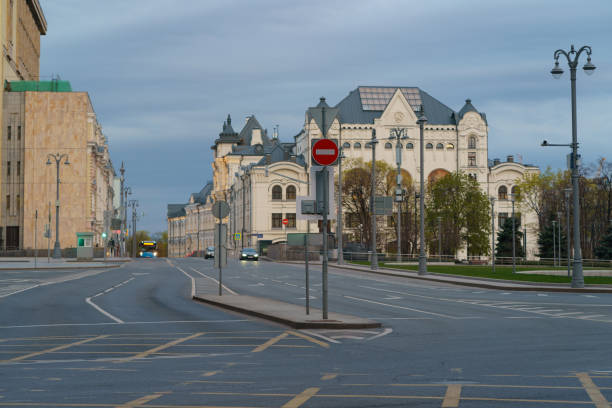Girilmez: (310, 138, 341, 165)
